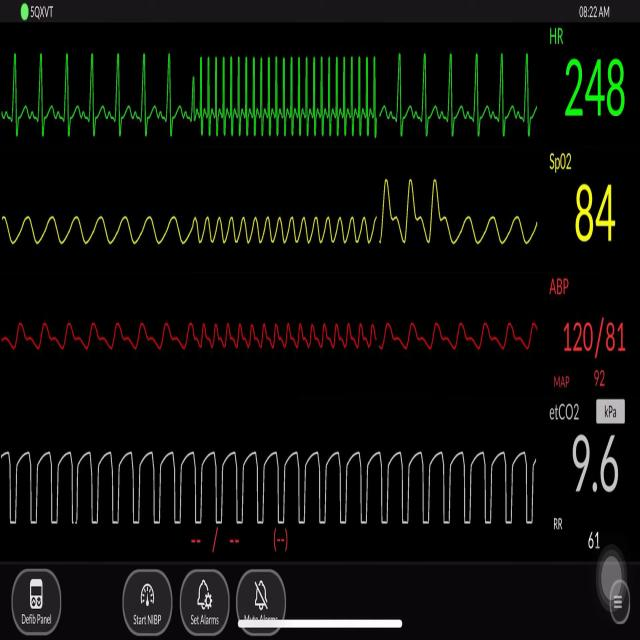danger: (190, 40, 382, 146)
